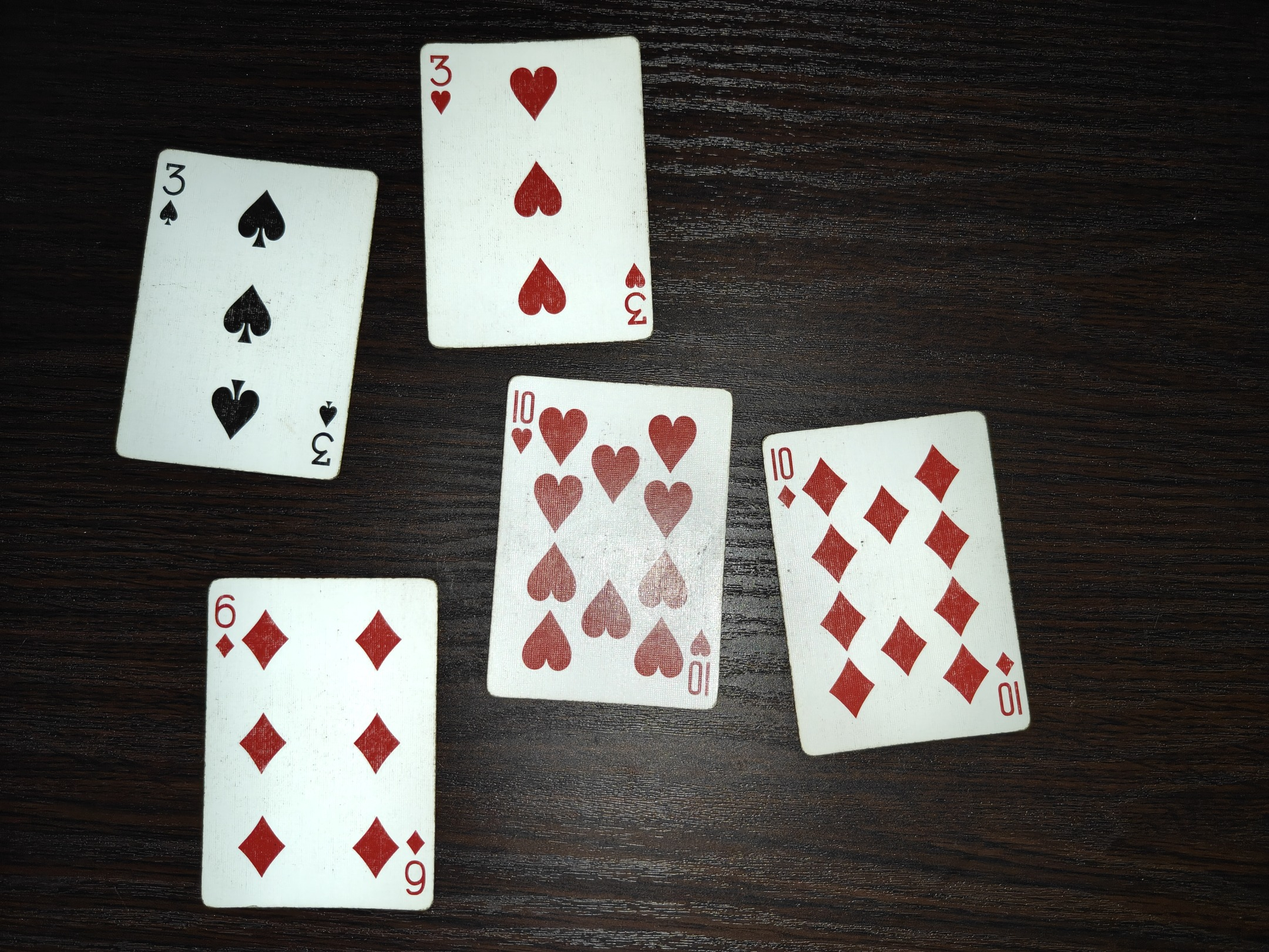10D: (762, 407, 1033, 758)
10H: (485, 374, 735, 712)
3H: (420, 34, 656, 349)
3S: (115, 149, 379, 480)
6D: (199, 575, 441, 913)
